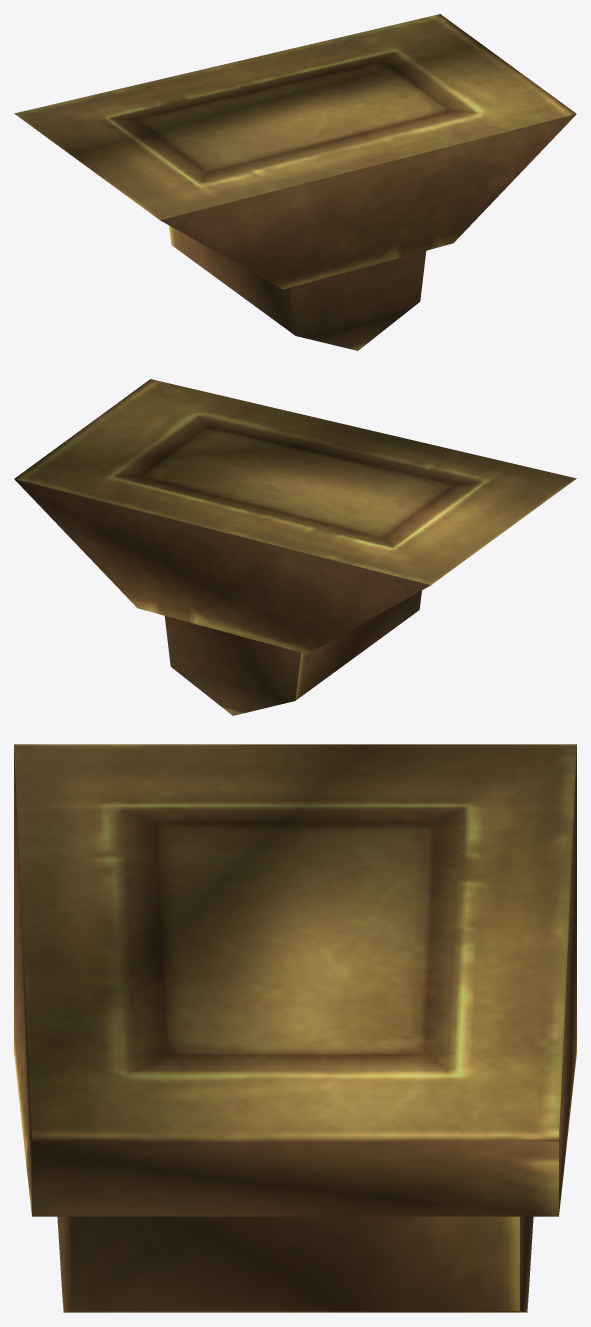
The model's file is G_hulan004.fbx.
The picture shows the model from 3 angles, top to bottom: view 1: azimuth 30°, elevation 25°; view 2: azimuth 150°, elevation 25°; view 3: azimuth 270°, elevation 25°; orthographic projection. The views are drawn at different scales.
Visible parts, largest first — view 1: G_hulan004; view 2: G_hulan004; view 3: G_hulan004.
Part boxes in pixels (x1,y1,x2,y2): G_hulan004: (14, 14, 576, 350); G_hulan004: (14, 379, 576, 715); G_hulan004: (14, 744, 576, 1312).
Size of the model in its own units: 71.41 by 30.99 by 42.78.
